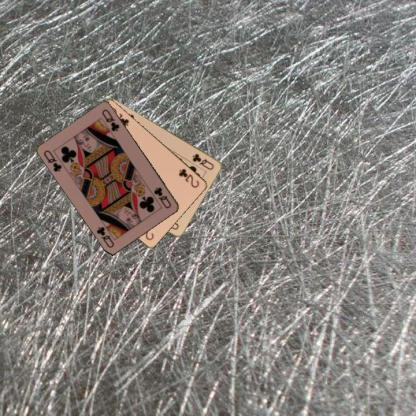2c: (176, 166, 201, 189)
Qc: (41, 148, 64, 174), (151, 184, 173, 210), (190, 151, 216, 171)
